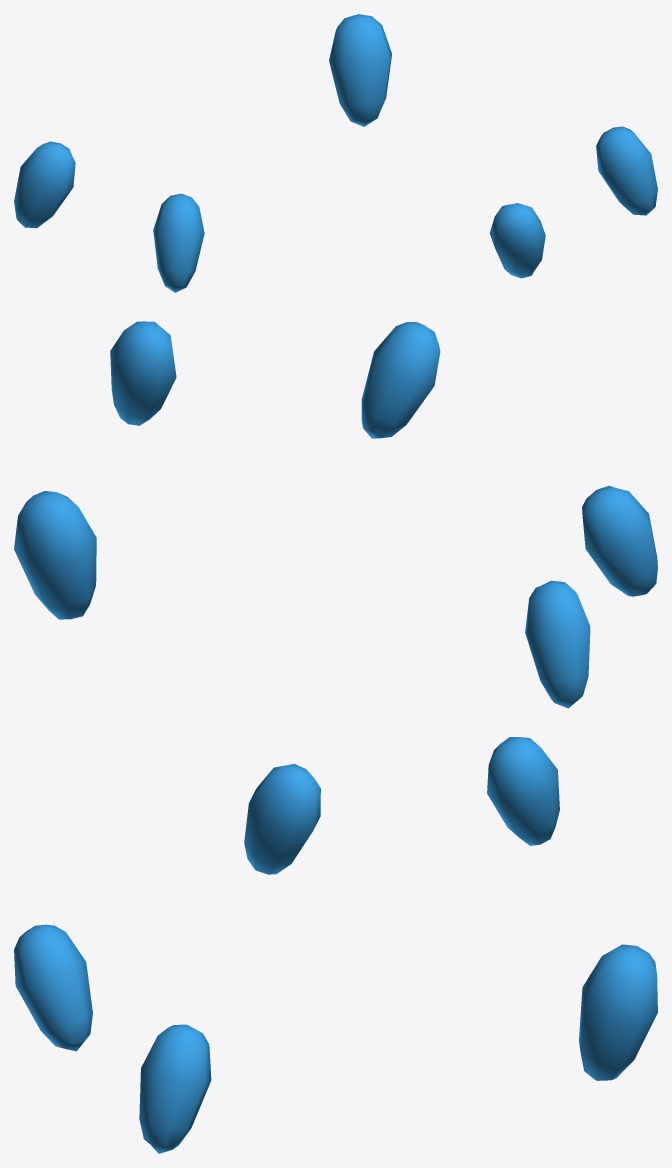
The model's file is SM_Prop_Grass3.fbx.
The picture shows the model from 3 angles, top to bottom: view 1: azimuth 30°, elevation 25°; view 2: azimuth 150°, elevation 25°; view 3: azimuth 270°, elevation 25°; orthographic projection. The views are drawn at different scales.
Parts seen in each view (by area): view 1: SM_Prop_Grass3; view 2: SM_Prop_Grass3; view 3: SM_Prop_Grass3.
Part boxes in pixels (x1,y1,x2,y2): SM_Prop_Grass3: (14,14,657,292); SM_Prop_Grass3: (14,321,657,708); SM_Prop_Grass3: (14,737,657,1153).
Bounding box in the file's own units: 144 × 27.85 × 120.
